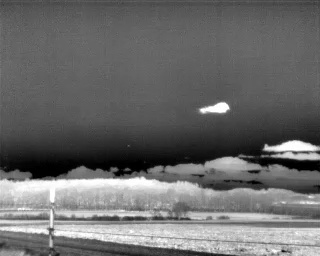DRONE: (126, 143, 132, 149)
